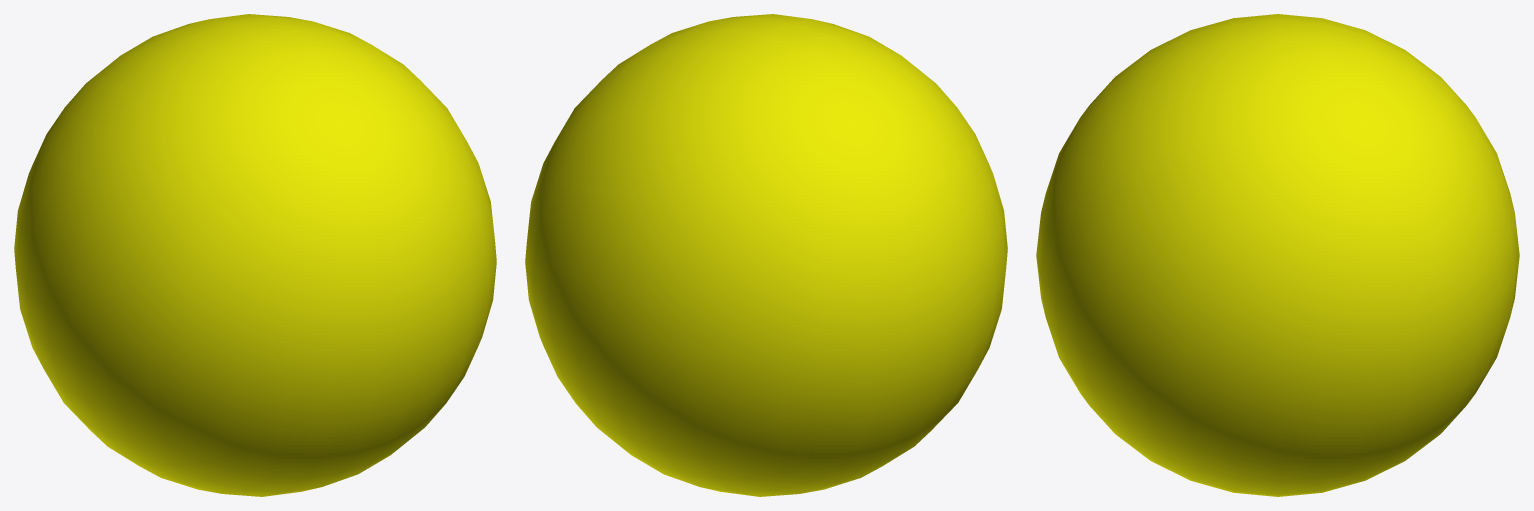
The picture shows the model from 3 angles, left to right: view 1: azimuth 30°, elevation 25°; view 2: azimuth 150°, elevation 25°; view 3: azimuth 270°, elevation 25°; orthographic projection.
Parts seen in each view (by area): view 1: Ball_Lp:Cube4; view 2: Ball_Lp:Cube4; view 3: Ball_Lp:Cube4.
Boxes of the visible parts, x1,y1,x2,y2 form: Ball_Lp:Cube4: (14, 14, 496, 496); Ball_Lp:Cube4: (525, 14, 1007, 496); Ball_Lp:Cube4: (1036, 14, 1519, 496).
Bounding box in the file's own units: 0.5963 × 0.5963 × 0.5963.
Materials: 1 (1 with a texture image).
